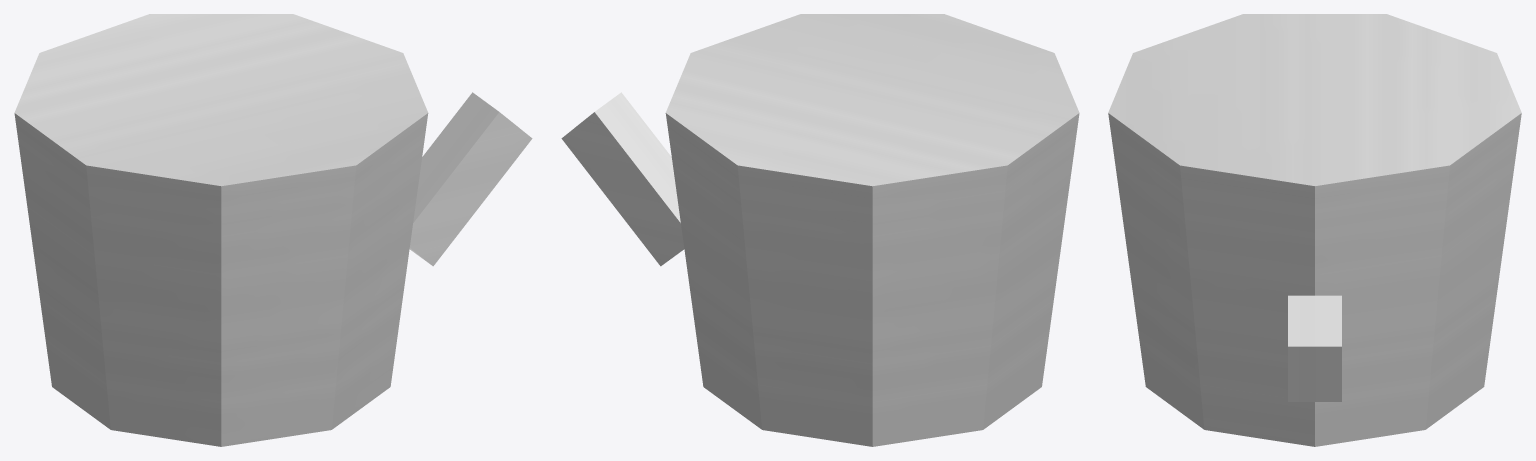
Rendered from drug_tea.obj.
The picture shows the model from 3 angles, left to right: view 1: azimuth 30°, elevation 25°; view 2: azimuth 150°, elevation 25°; view 3: azimuth 270°, elevation 25°; orthographic projection.
Parts seen in each view (by area): view 1: drug_tea; view 2: drug_tea; view 3: drug_tea.
Boxes of the visible parts, bbox=[...] form: drug_tea: bbox=[14, 14, 532, 446]; drug_tea: bbox=[561, 14, 1079, 446]; drug_tea: bbox=[1108, 14, 1521, 446].
Size of the model in its own units: 0.2834 by 0.16 by 0.2166.
